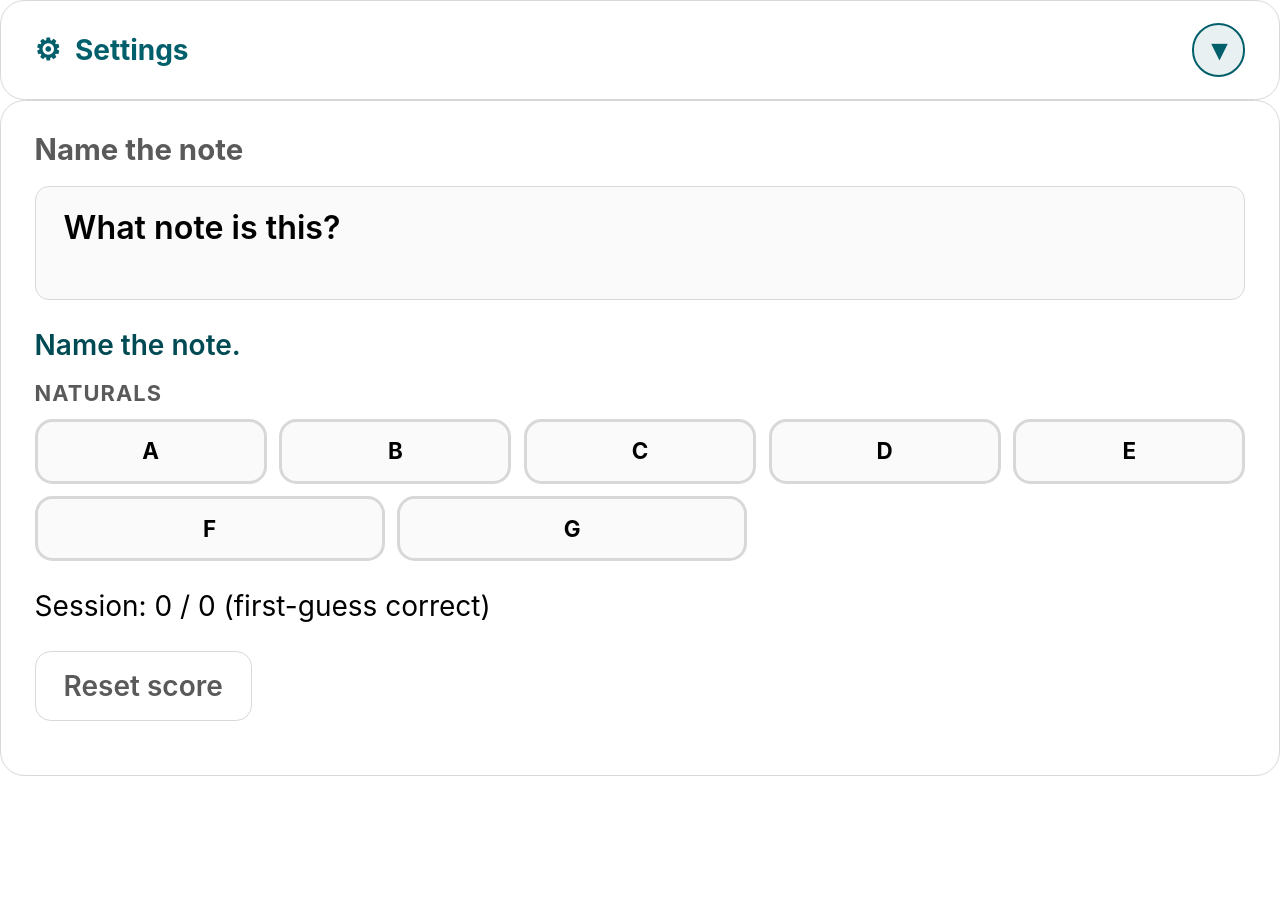
NoteReadingTopic — first-guess scoring (docs/15-theory-topics/01 §6) › counts a first-try correct answer as total+1, correct+1
The width and height of the screenshot is (1280, 900).
Click the button "A": point(151, 451) 35,419 -> 267,484
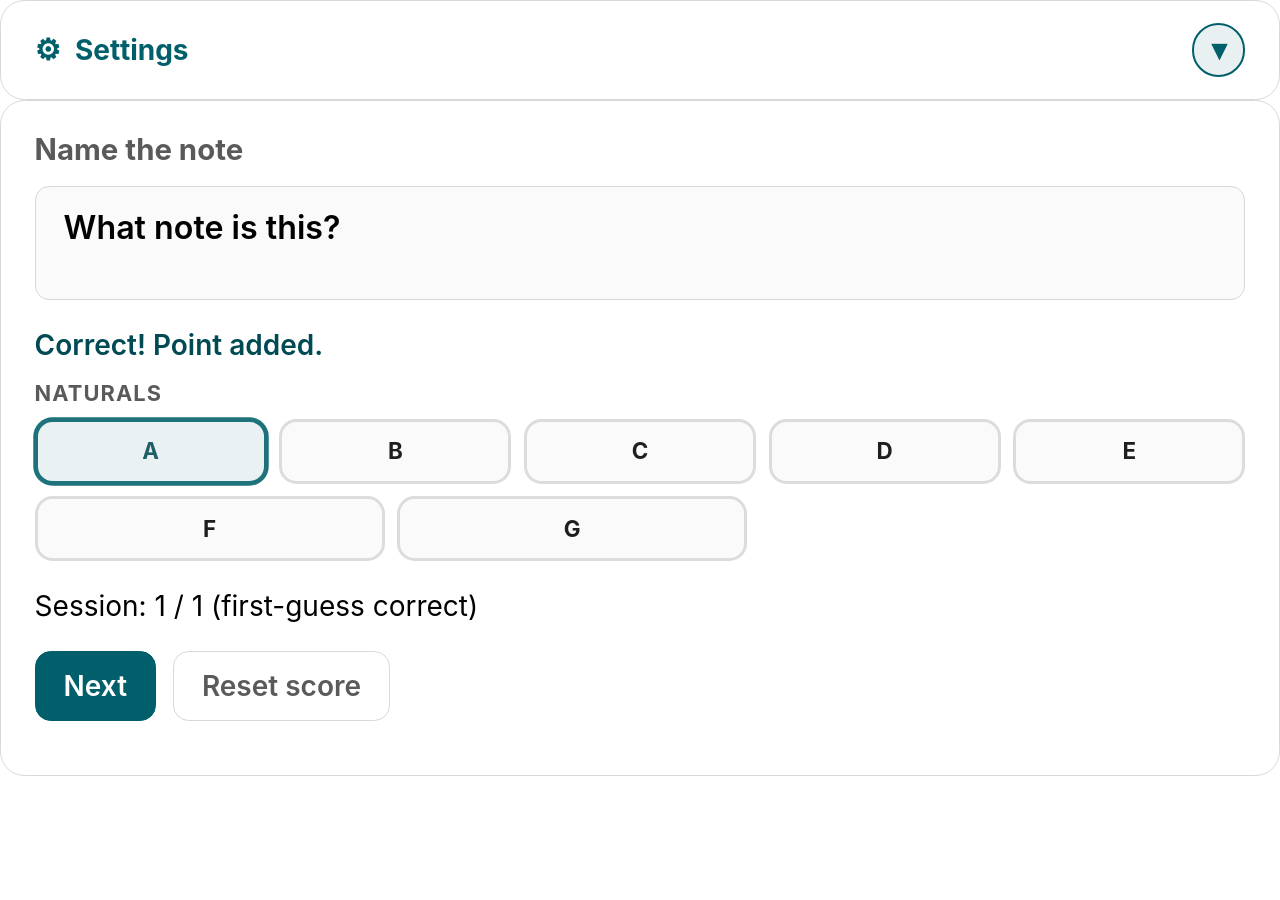
Expected: the text "Session: 1 / 1 (first-guess correct)" is shown, 35,589 -> 478,623
